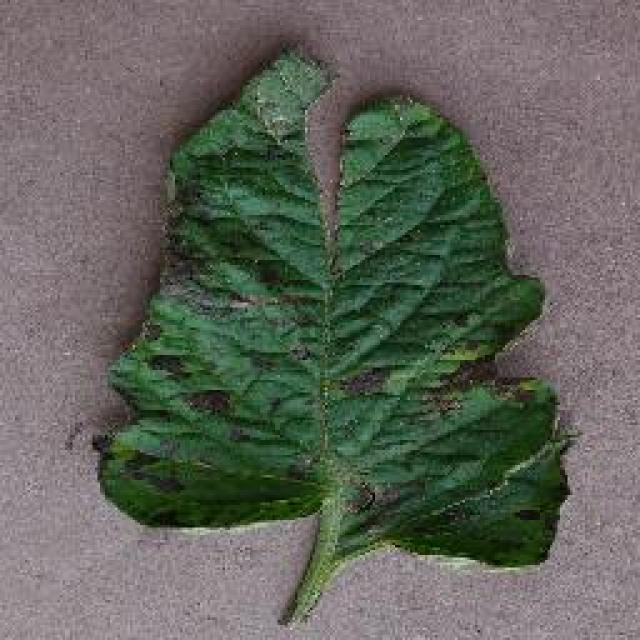Tomato Early blight leaf: (106, 46, 566, 609)
